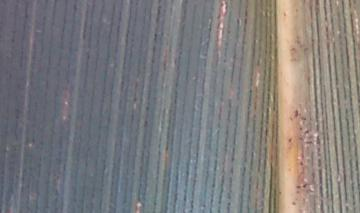tarspot: (293, 108, 299, 119), (294, 183, 302, 191), (281, 9, 288, 18), (144, 105, 151, 114), (299, 115, 307, 122), (303, 140, 313, 145), (143, 118, 148, 128), (301, 182, 308, 189), (287, 136, 293, 143), (298, 160, 304, 167), (290, 200, 296, 207), (303, 130, 309, 137), (298, 125, 303, 132), (294, 7, 299, 14), (277, 189, 282, 195)
